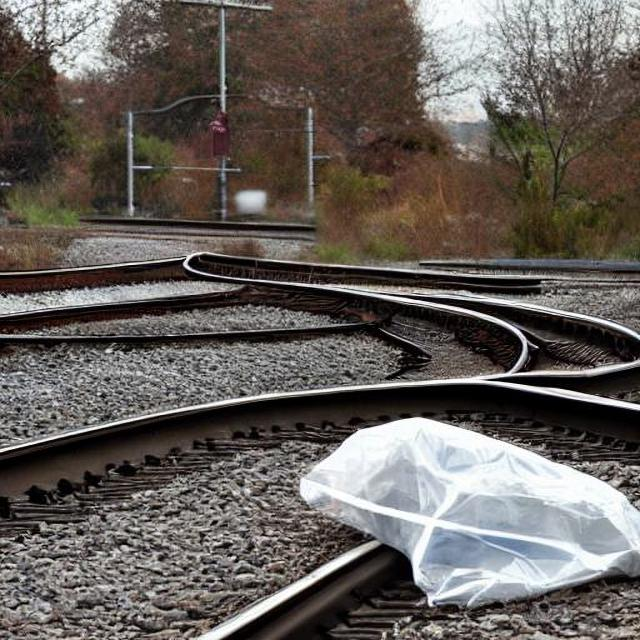plastic bag: (293, 417, 636, 607)
